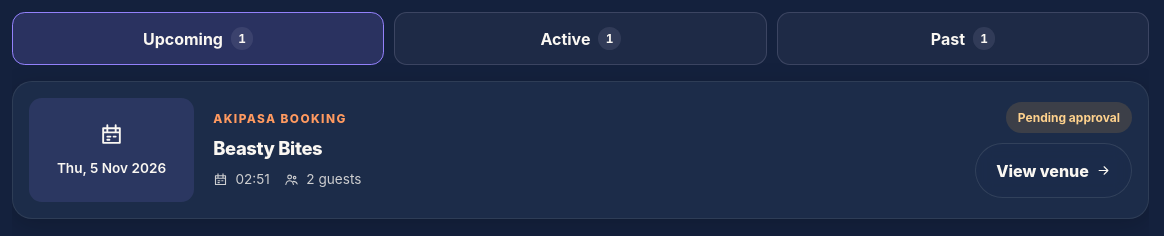
Test: Account My Bookings › separates upcoming active and past bookings with clear status cards
Expected: the heading "Beasty Bites" is shown, [213,137,322,159]
Expected: the text "Pending approval" is shown, [1006,102,1132,133]
Click the button "Active 1" at (581, 39), box [394,12,767,65]
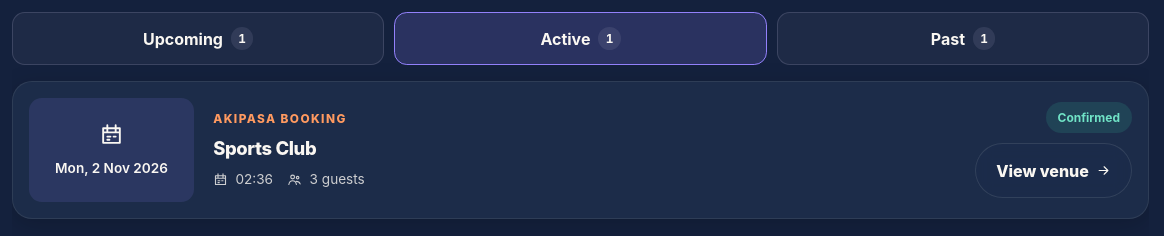
Expected: the heading "Sports Club" is shown, [213,137,316,159]
Expected: the heading "Beasty Bites" is gone
Click the button "Past 1" at (963, 39), box [777,12,1149,65]
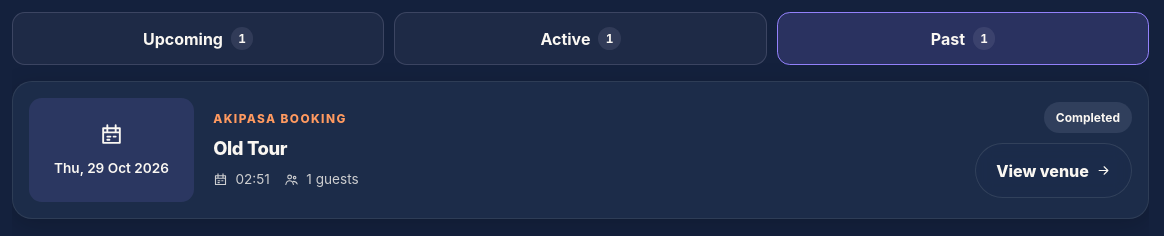
Expected: the heading "Old Tour" is shown, [213,137,287,159]
